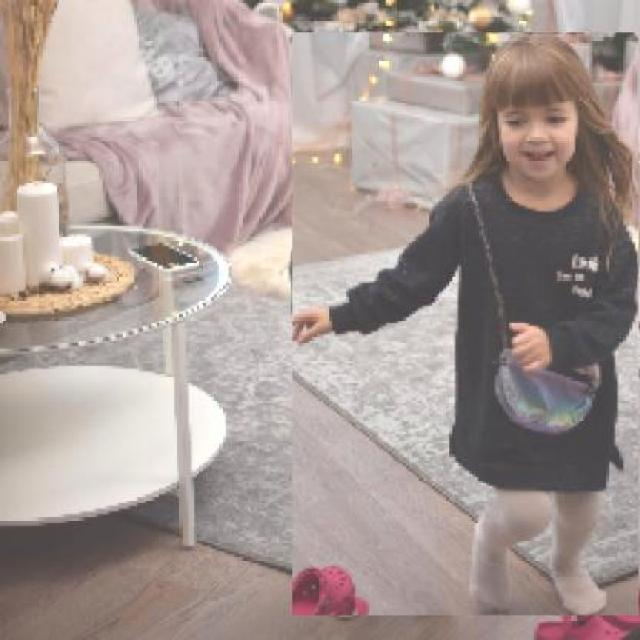child: (291, 32, 638, 617)
